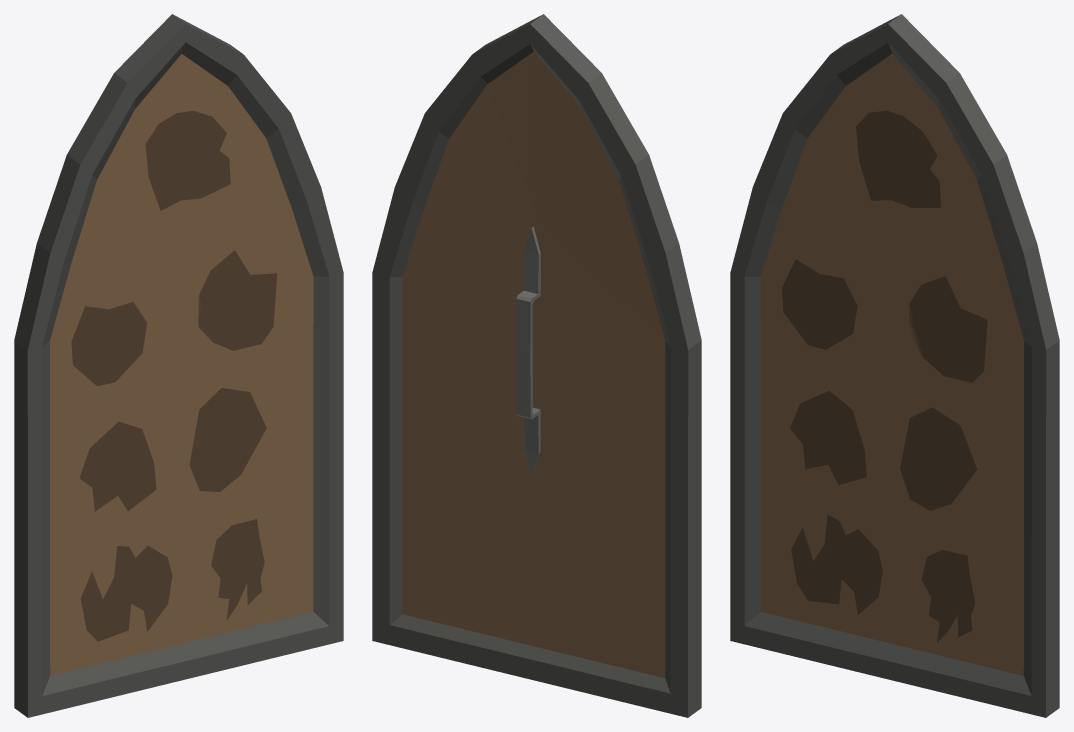
Rendered from SM_pwe_egypt_shield_06.fbx.
3 renders of one model, left to right at view 1: azimuth 30°, elevation 25°; view 2: azimuth 150°, elevation 25°; view 3: azimuth 330°, elevation 25°, orthographic.
Parts seen in each view (by area): view 1: SM_pwe_egypt_shield_06; view 2: SM_pwe_egypt_shield_06; view 3: SM_pwe_egypt_shield_06.
Part boxes in pixels (<box>): SM_pwe_egypt_shield_06: <box>14,14,343,717</box>; SM_pwe_egypt_shield_06: <box>372,14,701,717</box>; SM_pwe_egypt_shield_06: <box>730,14,1059,717</box>.
Size of the model in its own units: 59.81 by 119 by 6.42.
